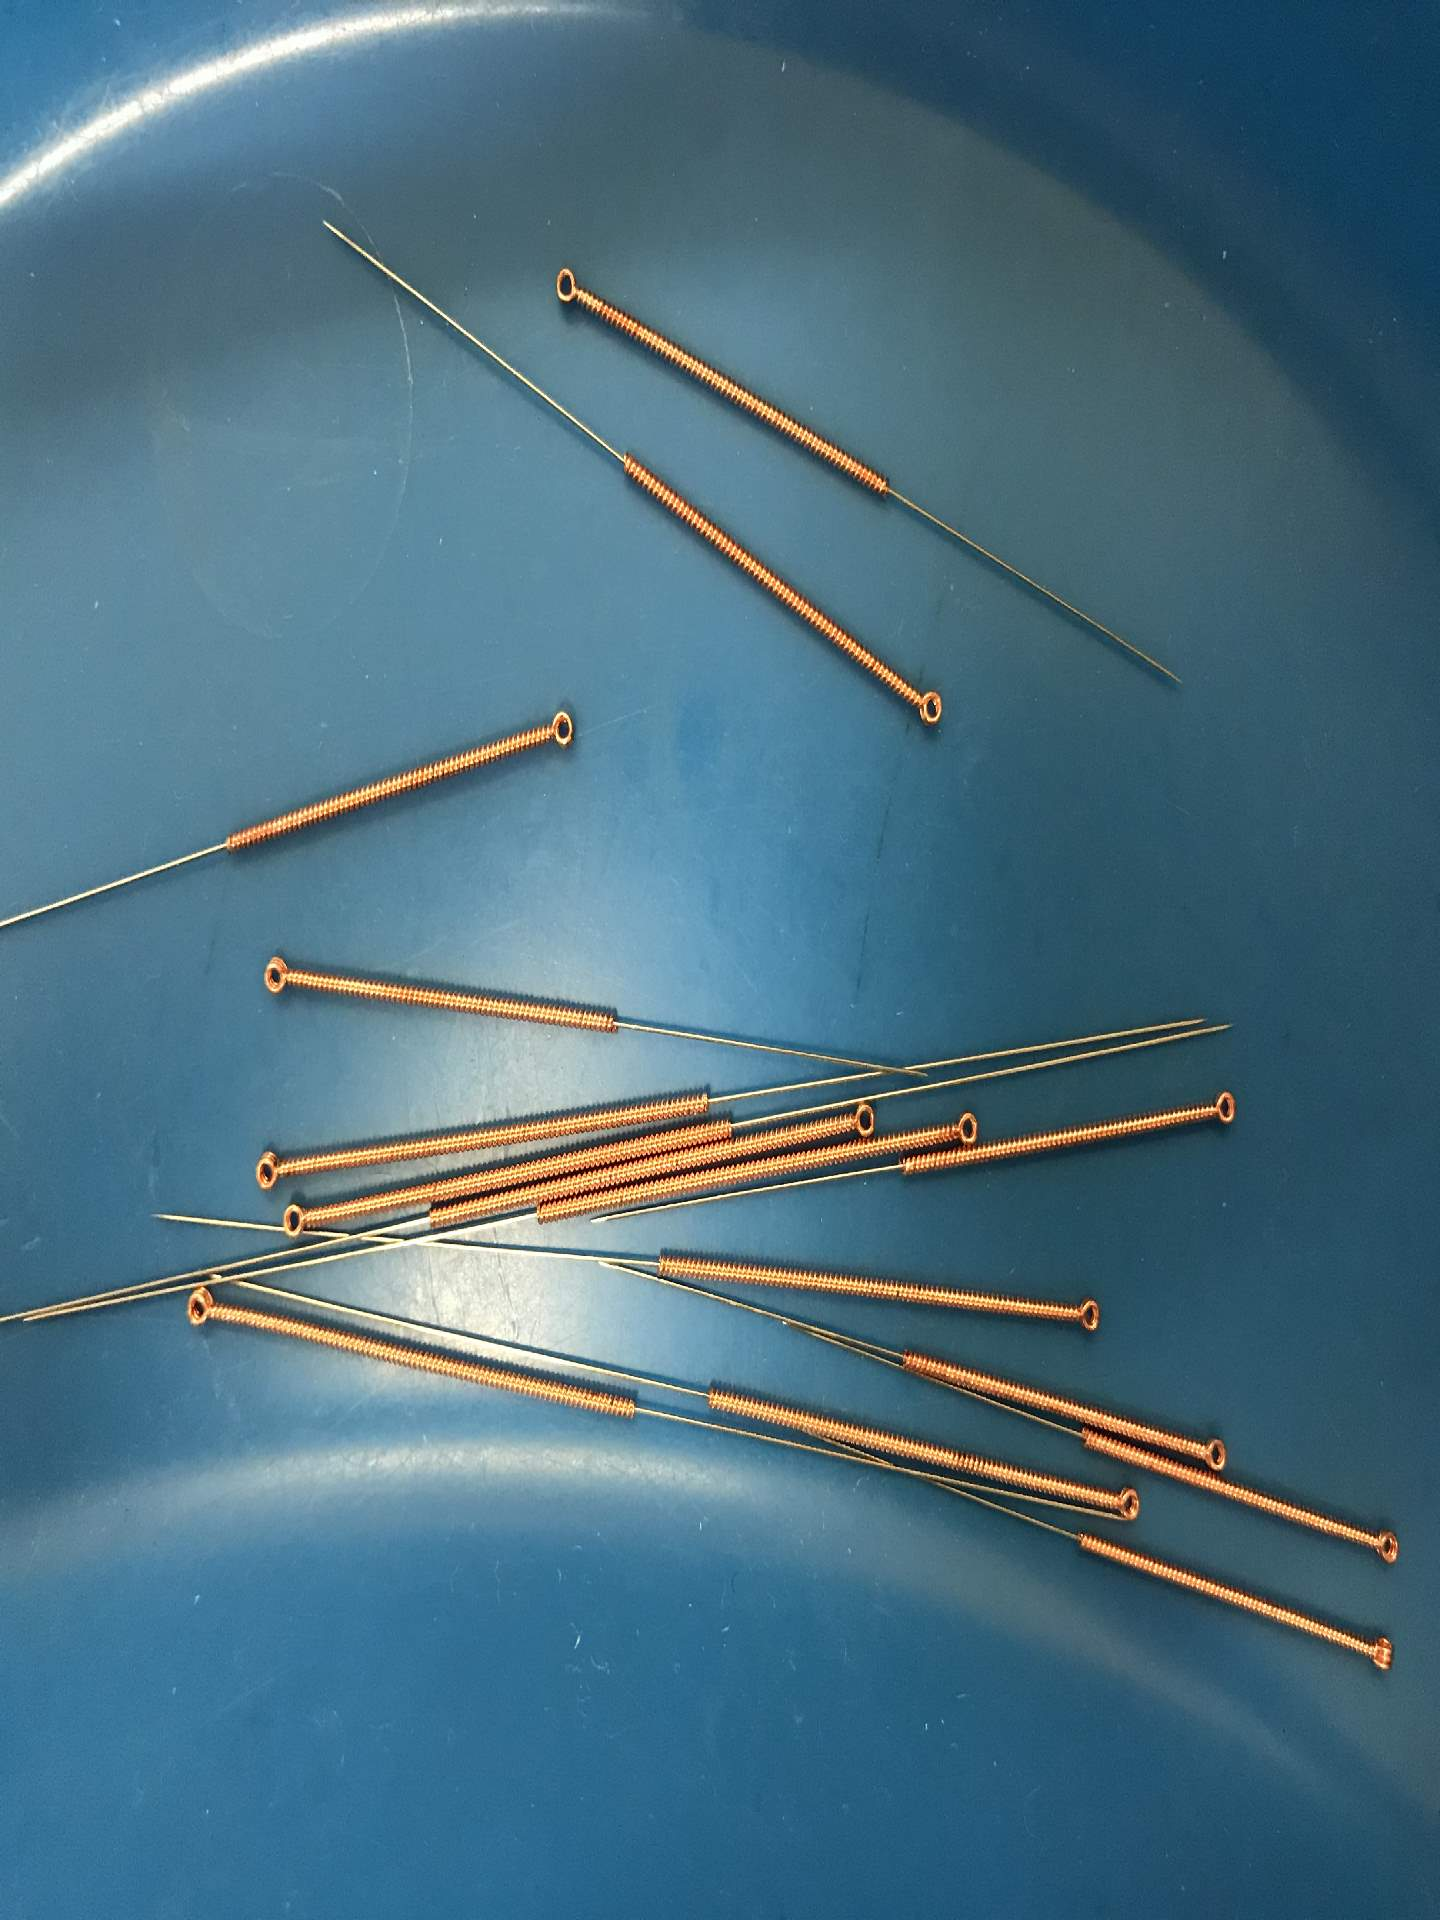needle: (886, 671, 961, 744), (244, 940, 309, 1013), (526, 692, 587, 768), (537, 255, 602, 324), (1349, 1615, 1407, 1690), (237, 1137, 303, 1200), (1189, 1076, 1251, 1140), (1351, 1507, 1410, 1574), (174, 1284, 236, 1346), (1054, 1287, 1118, 1347), (1091, 1469, 1153, 1530), (274, 1194, 324, 1246), (933, 1105, 989, 1147), (833, 1098, 885, 1140), (1192, 1429, 1236, 1476)
